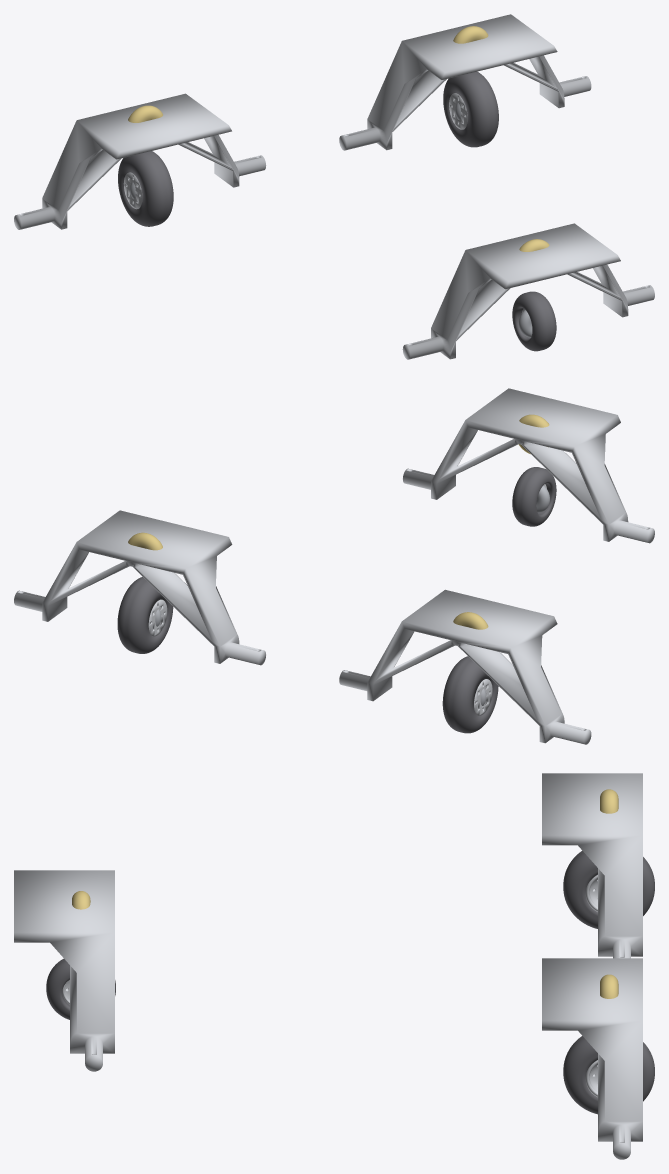
File: landing_gear_wheels_training.glb
3 views of the same model, one above another, from view 1: azimuth 30°, elevation 25°; view 2: azimuth 150°, elevation 25°; view 3: azimuth 270°, elevation 25° (orthographic). The views are drawn at different scales.
Parts seen in each view (by area): view 1: nose_oleo_strut, left_main_oleo_strut, right_main_oleo_strut, left_main_tyre, right_main_tyre, nose_tyre; view 2: nose_oleo_strut, right_main_oleo_strut, left_main_oleo_strut, left_main_tyre, right_main_tyre, nose_tyre; view 3: nose_oleo_strut, left_main_oleo_strut, right_main_oleo_strut, right_main_tyre, left_main_tyre, nose_tyre.
Part boxes in pixels (bbox=[...]): nose_oleo_strut: bbox=[402, 223, 654, 359]; left_main_oleo_strut: bbox=[339, 14, 591, 150]; right_main_oleo_strut: bbox=[14, 93, 266, 229]; left_main_tyre: bbox=[443, 71, 498, 147]; right_main_tyre: bbox=[118, 151, 173, 226]; nose_tyre: bbox=[512, 291, 556, 351]; nose_oleo_strut: bbox=[403, 388, 654, 543]; right_main_oleo_strut: bbox=[339, 589, 591, 744]; left_main_oleo_strut: bbox=[14, 510, 265, 665]; left_main_tyre: bbox=[117, 577, 173, 653]; right_main_tyre: bbox=[442, 656, 498, 733]; nose_tyre: bbox=[512, 467, 556, 526]; nose_oleo_strut: bbox=[14, 870, 114, 1071]; left_main_oleo_strut: bbox=[542, 958, 642, 1159]; right_main_oleo_strut: bbox=[542, 773, 642, 958]; right_main_tyre: bbox=[563, 850, 654, 928]; left_main_tyre: bbox=[563, 1036, 654, 1114]; nose_tyre: bbox=[46, 958, 115, 1019].
Size of the model in its own units: 154 by 30.19 by 129.
